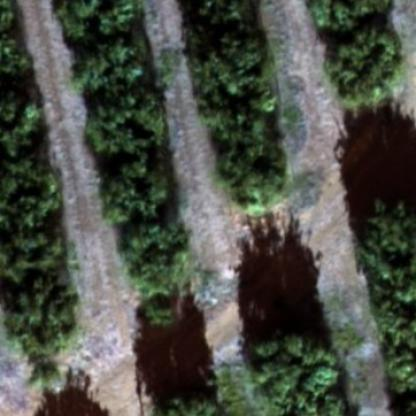Canopy-Citrus: (241, 332, 344, 415), (0, 271, 81, 359), (193, 41, 274, 115), (87, 91, 167, 155), (326, 25, 402, 91), (207, 100, 283, 163), (104, 155, 172, 222), (74, 38, 150, 96), (129, 224, 193, 291), (1, 163, 61, 228), (218, 160, 289, 214), (0, 226, 63, 280), (2, 76, 42, 160), (60, 0, 137, 39), (366, 258, 415, 318), (308, 0, 393, 30), (187, 2, 261, 36), (366, 210, 415, 261), (376, 319, 415, 365), (164, 389, 223, 415)
